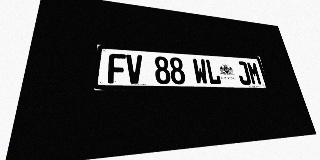8: (154, 56, 171, 84), (169, 57, 186, 84)
F: (108, 53, 126, 84)
J: (235, 61, 252, 85)
L: (205, 59, 222, 85)
M: (246, 62, 263, 85)
V: (126, 54, 143, 84)
W: (192, 58, 209, 85)
